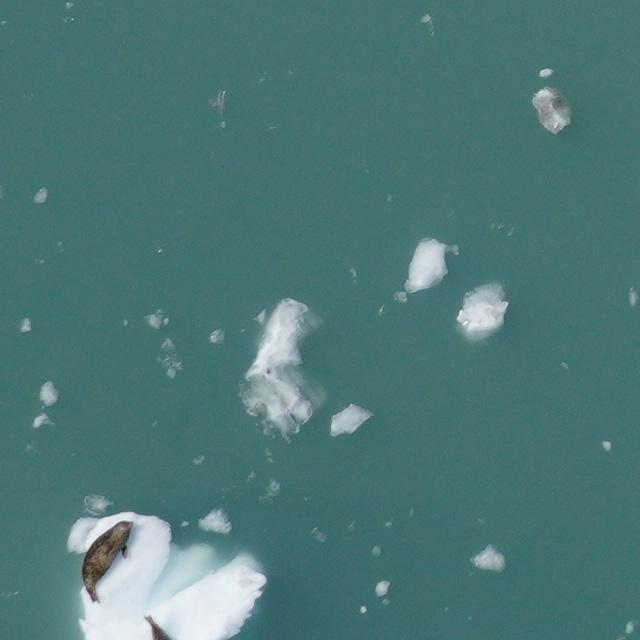seal: (64, 508, 147, 605), (137, 610, 174, 640)
